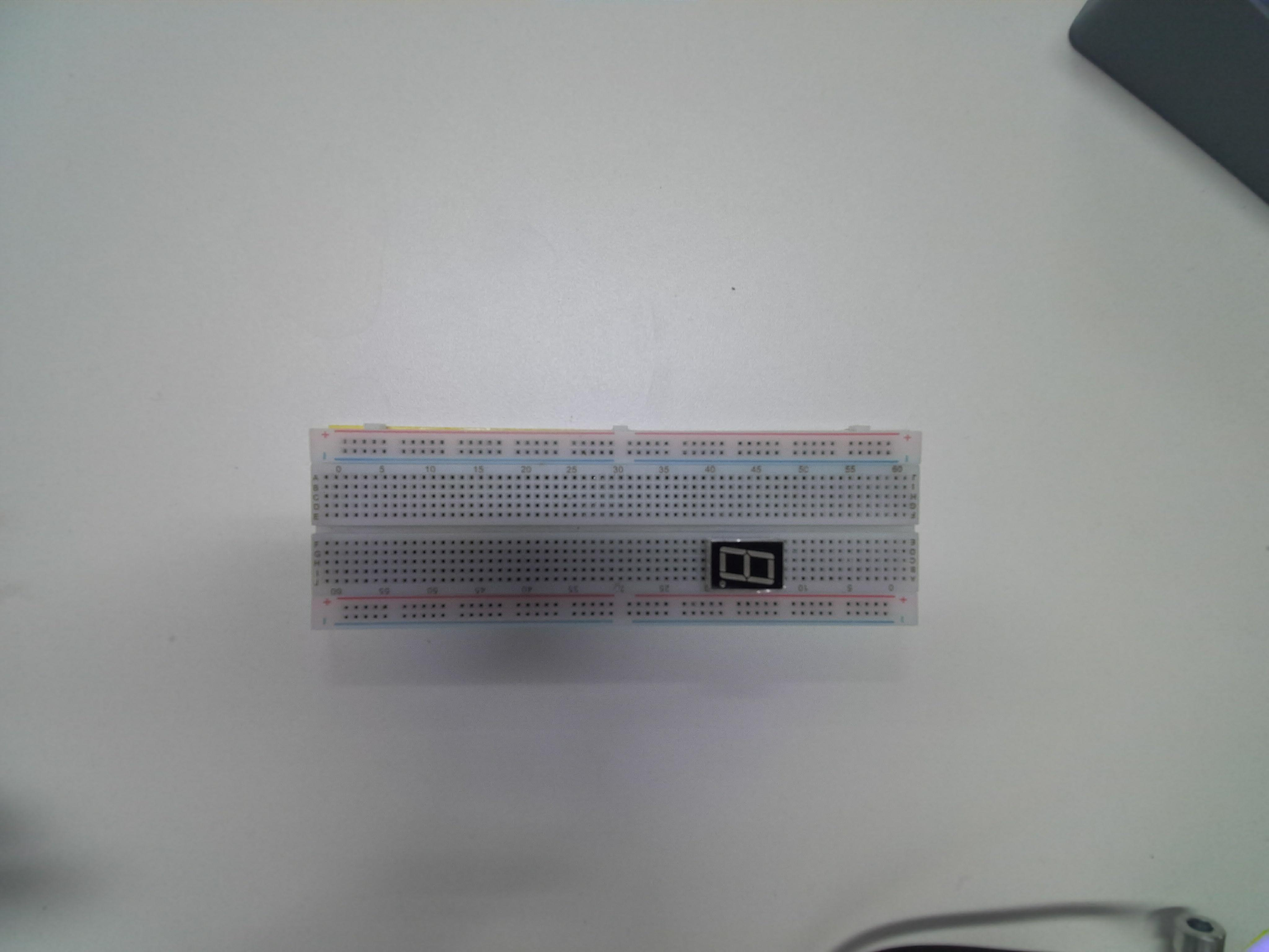base: (305, 425, 924, 632)
digit-board: (707, 538, 786, 592)
